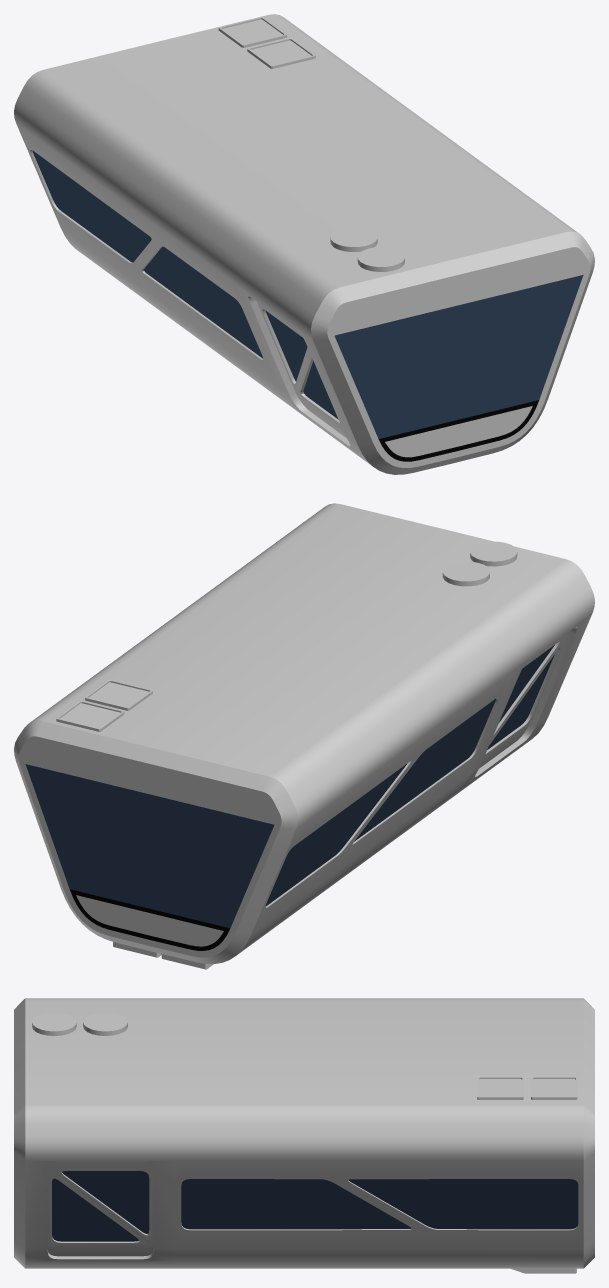
The model's file is SM_Maglev_Train01_59e0b21e.fbx.
3 renders of one model, top to bottom at view 1: azimuth 30°, elevation 25°; view 2: azimuth 150°, elevation 25°; view 3: azimuth 270°, elevation 25°, orthographic. The views are drawn at different scales.
Parts seen in each view (by area): view 1: SM_Maglev_Train01; view 2: SM_Maglev_Train01; view 3: SM_Maglev_Train01.
Part boxes in pixels (bbox=[...]): SM_Maglev_Train01: bbox=[14, 14, 594, 474]; SM_Maglev_Train01: bbox=[14, 503, 594, 969]; SM_Maglev_Train01: bbox=[14, 998, 594, 1273].
Size of what is drawn, in the model's own units: 503 by 948 by 368.
